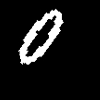chain: (19, 9, 62, 63)
